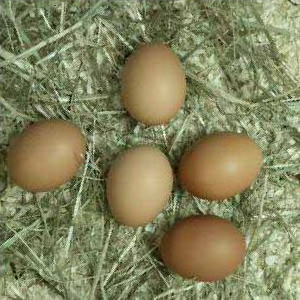egg: (160, 214, 246, 282), (178, 132, 263, 200), (7, 119, 86, 192), (106, 145, 174, 225), (122, 43, 186, 125)
